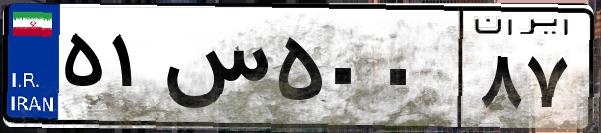0: (385, 28, 445, 110), (330, 28, 385, 110)
1: (110, 28, 158, 98)
5: (270, 28, 330, 110), (57, 26, 110, 100)
7: (525, 38, 570, 115)
8: (475, 38, 525, 113)
س: (158, 20, 270, 120)
